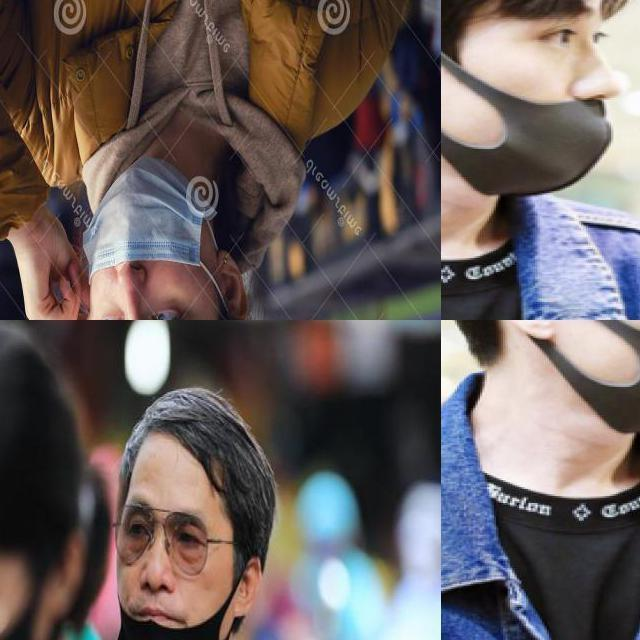hairnet: (460, 57, 628, 194), (87, 167, 203, 293), (114, 558, 234, 639)
